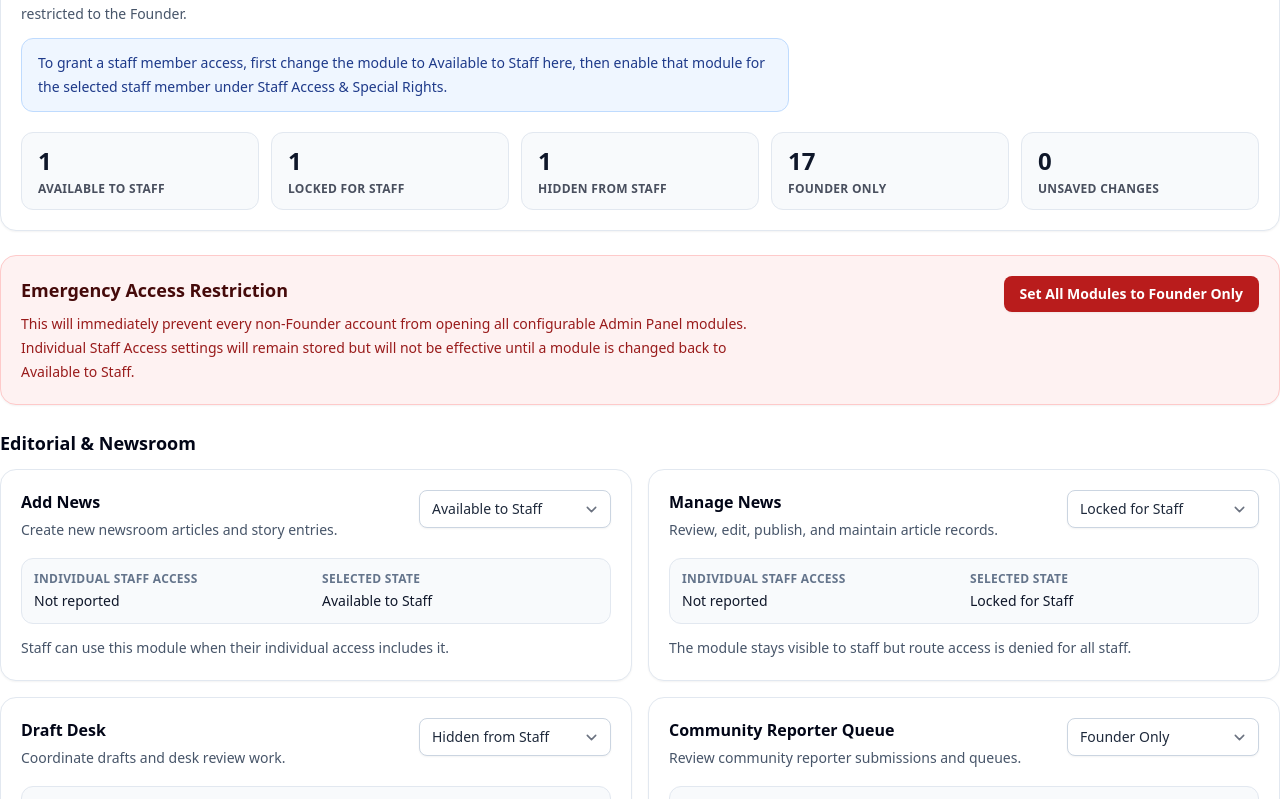
Test: FounderAccessControl › does not enable save before a successful review and invalidates review after another dropdown change
The width and height of the screenshot is (1280, 799).
Select "Locked for Staff" in the dropdown named "add news global state": (515, 509) [419, 490, 611, 528]
(page scrolled)
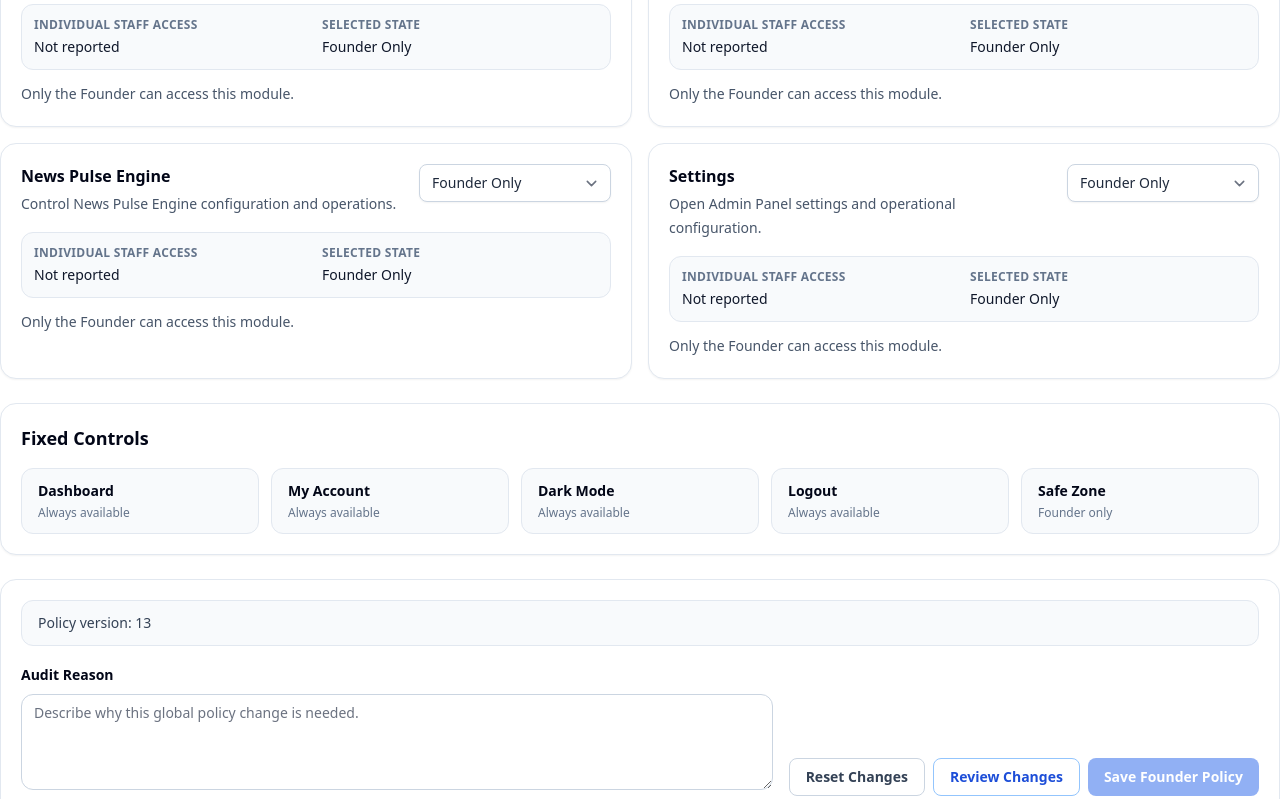
In the text box labelled "Audit Reason": (397, 742) [21, 694, 773, 790], type "Review invalidation test"
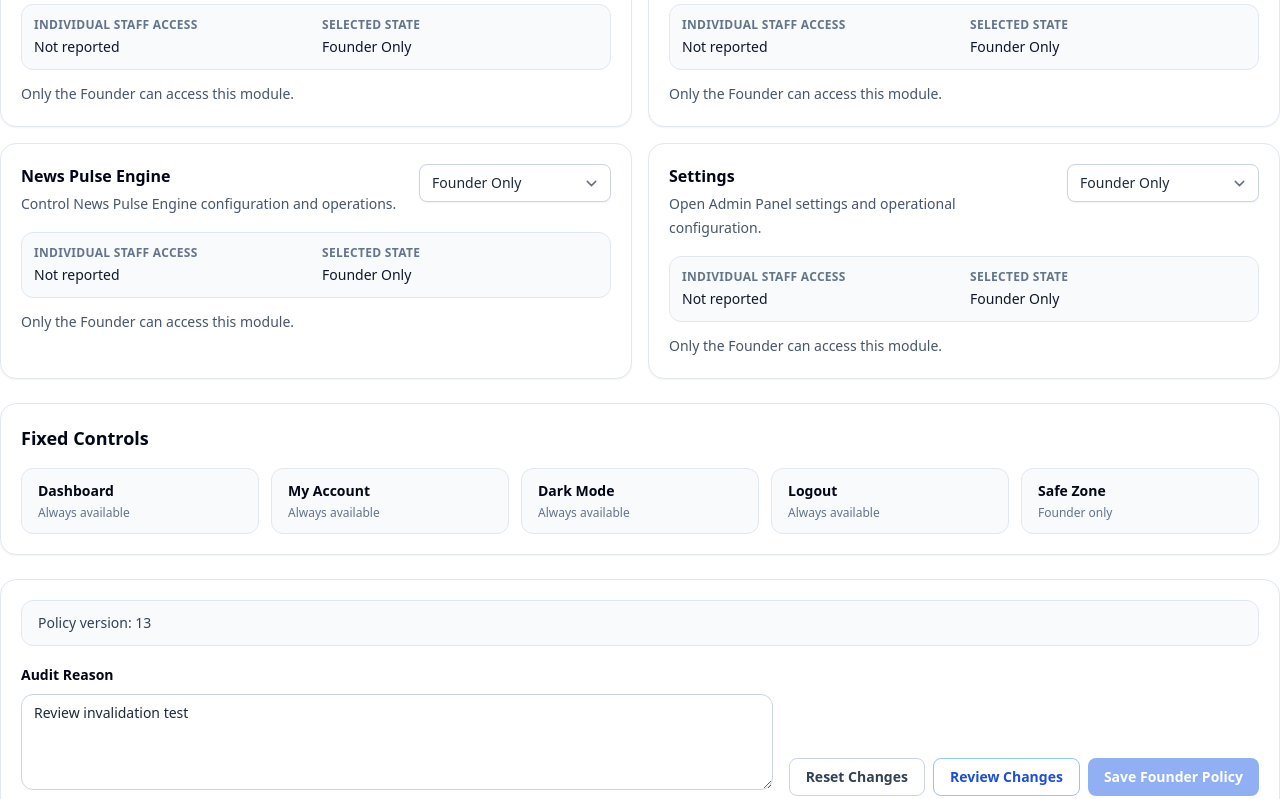
Expected: the button "Save Founder Policy" is disabled, [1088, 758, 1259, 796]
Click the button "Review Changes": (1006, 777) [933, 758, 1080, 796]
(page scrolled)
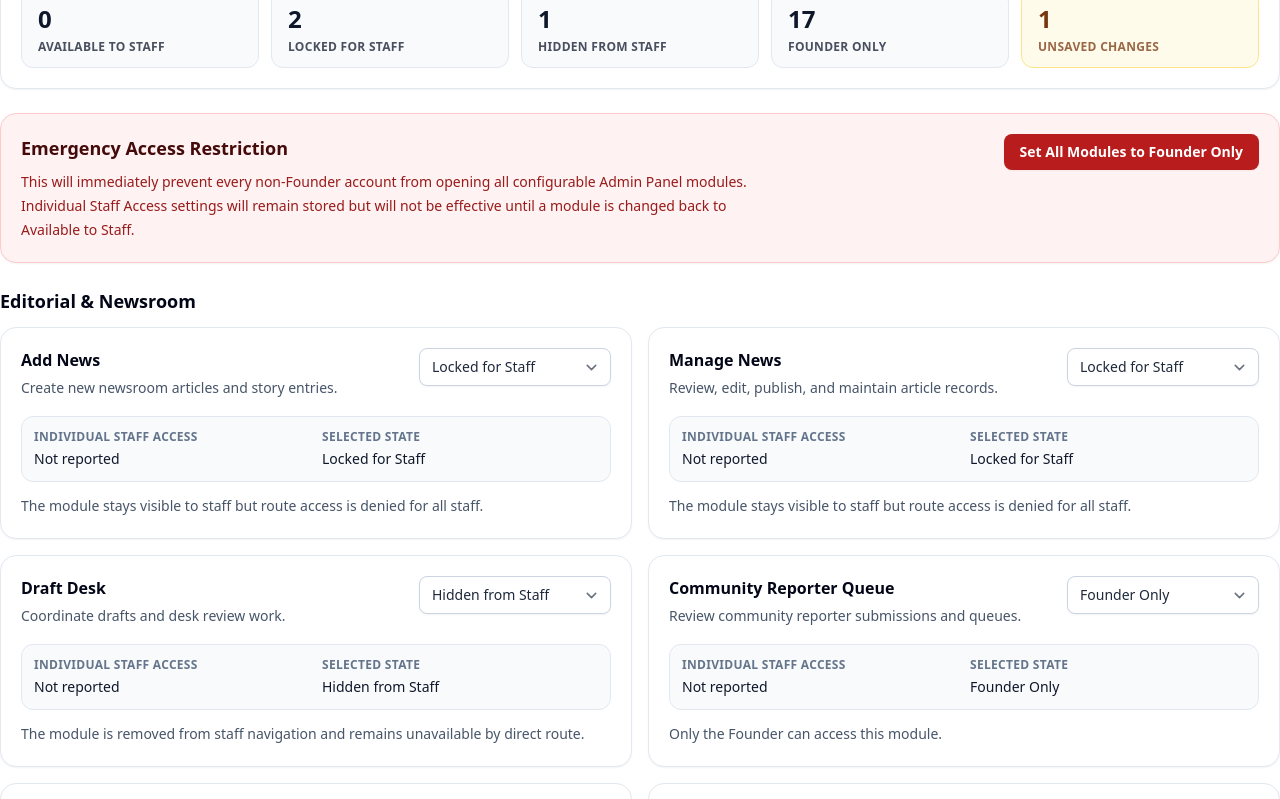
Select "Available to Staff" in the dropdown named "manage news global state": (1163, 367) [1067, 348, 1259, 386]
(page scrolled)
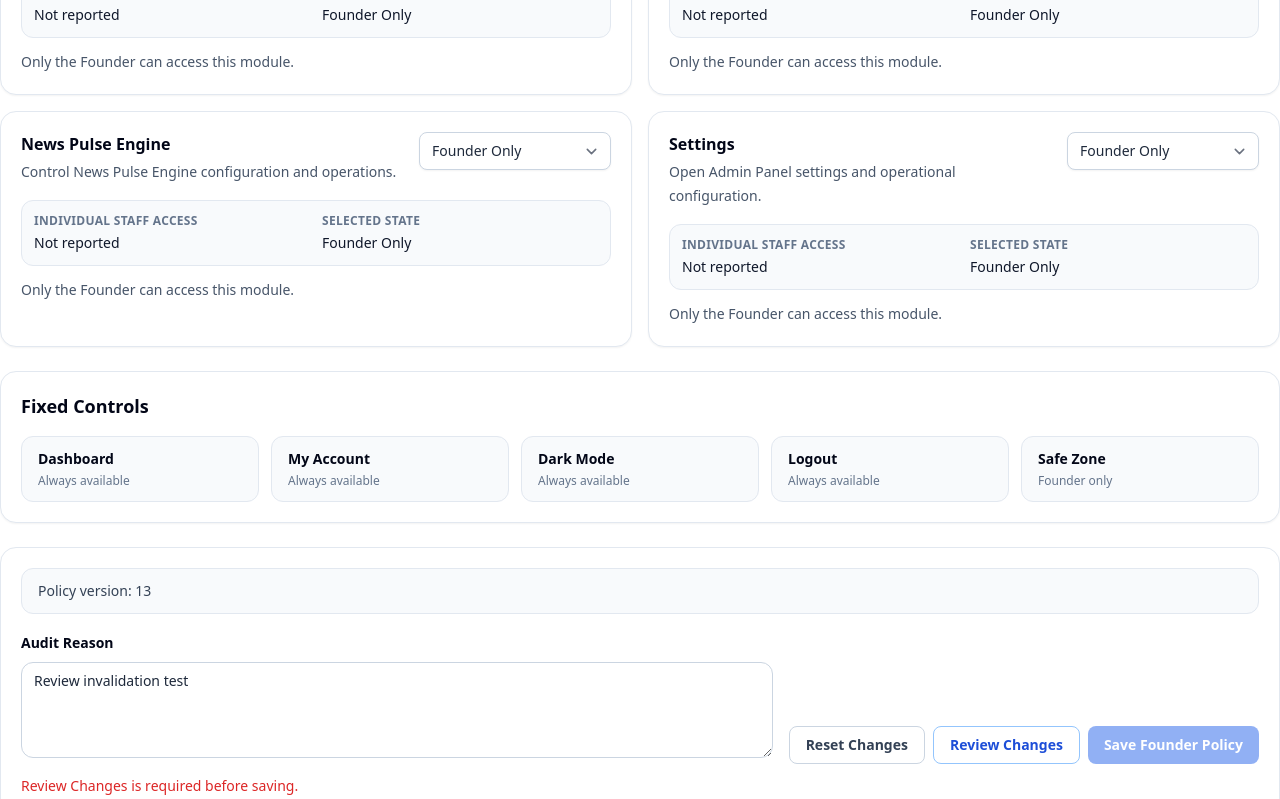
Result: the button "Save Founder Policy" is disabled at [1088, 726, 1259, 764]
